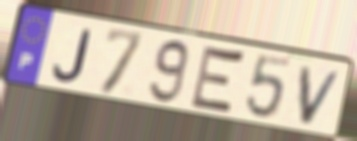5: (243, 51, 294, 123)
7: (101, 25, 148, 100)
9: (145, 38, 191, 107)
E: (187, 42, 248, 120)
J: (50, 28, 93, 86)
V: (299, 64, 346, 128)
